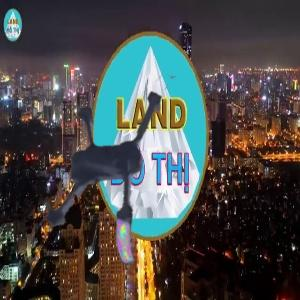drone: (5, 81, 214, 290)
